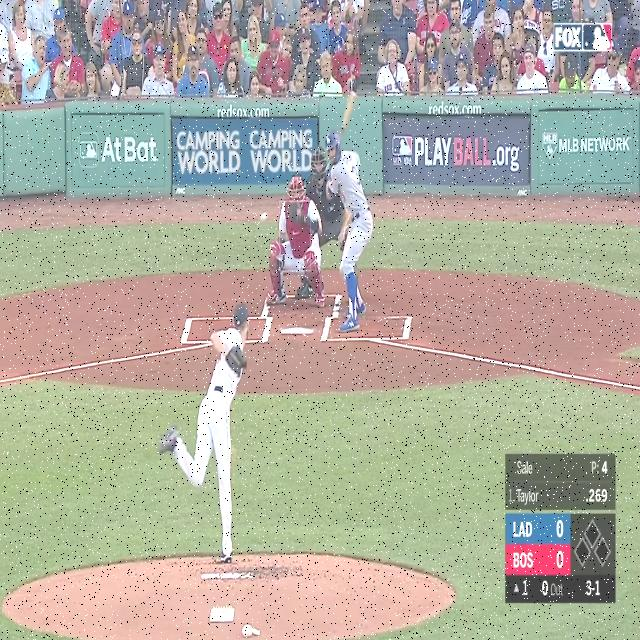baseball: (260, 211, 267, 224)
